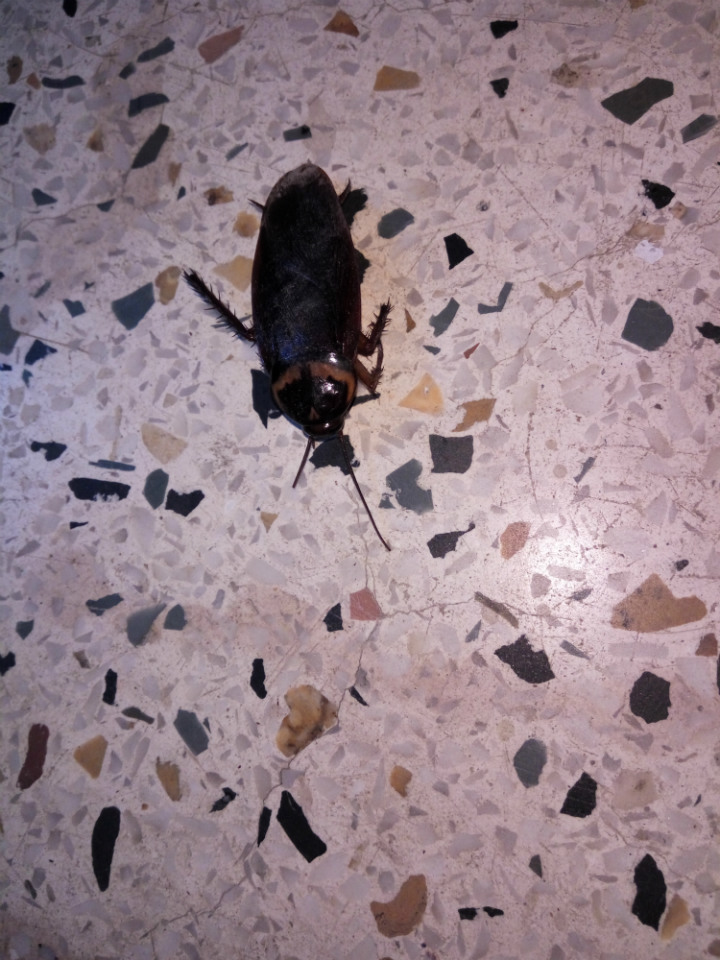cockroach: (129, 121, 518, 612)
